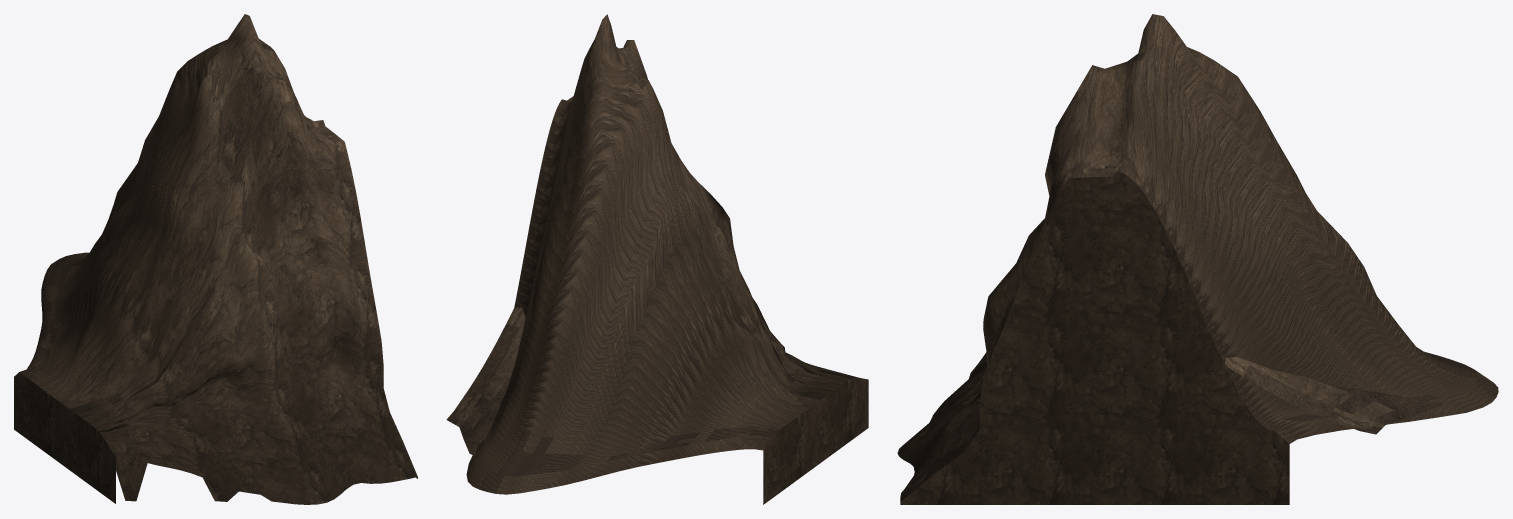
The model's file is seacliff_endcap_left_h5_b_v5_dead.glb.
3 views of the same model, side by side, from view 1: azimuth 30°, elevation 25°; view 2: azimuth 150°, elevation 25°; view 3: azimuth 270°, elevation 25° (orthographic). The views are drawn at different scales.
Parts seen in each view (by area): view 1: seacliff_endcap_left_h5_b; view 2: seacliff_endcap_left_h5_b; view 3: seacliff_endcap_left_h5_b.
Part boxes in pixels (x1,y1,x2,y2): seacliff_endcap_left_h5_b: [14, 14, 417, 504]; seacliff_endcap_left_h5_b: [446, 14, 868, 504]; seacliff_endcap_left_h5_b: [897, 14, 1498, 504].
Size of the model in its own units: 6 by 9.05 by 10.75.
Materials: 2 (2 with a texture image).
